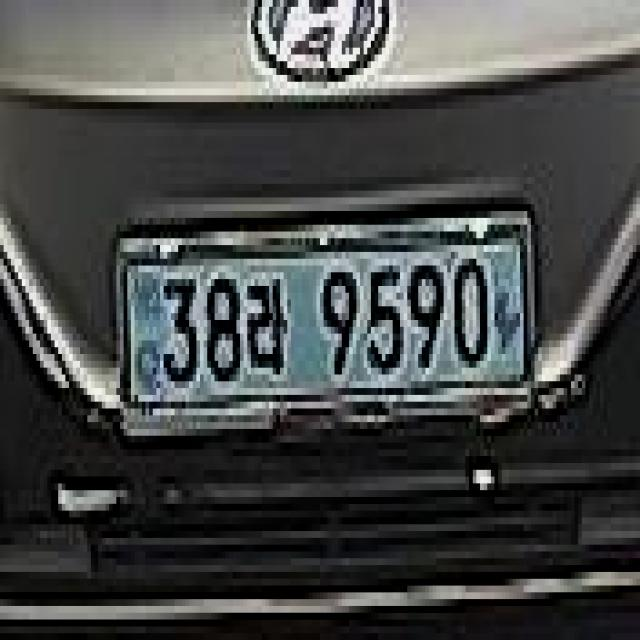EV_plate: (106, 207, 537, 438)
